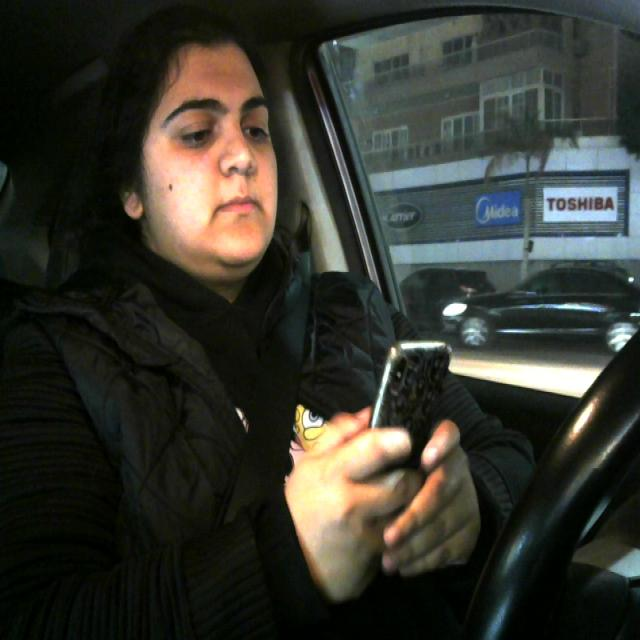mobile use: (363, 326, 458, 525)
